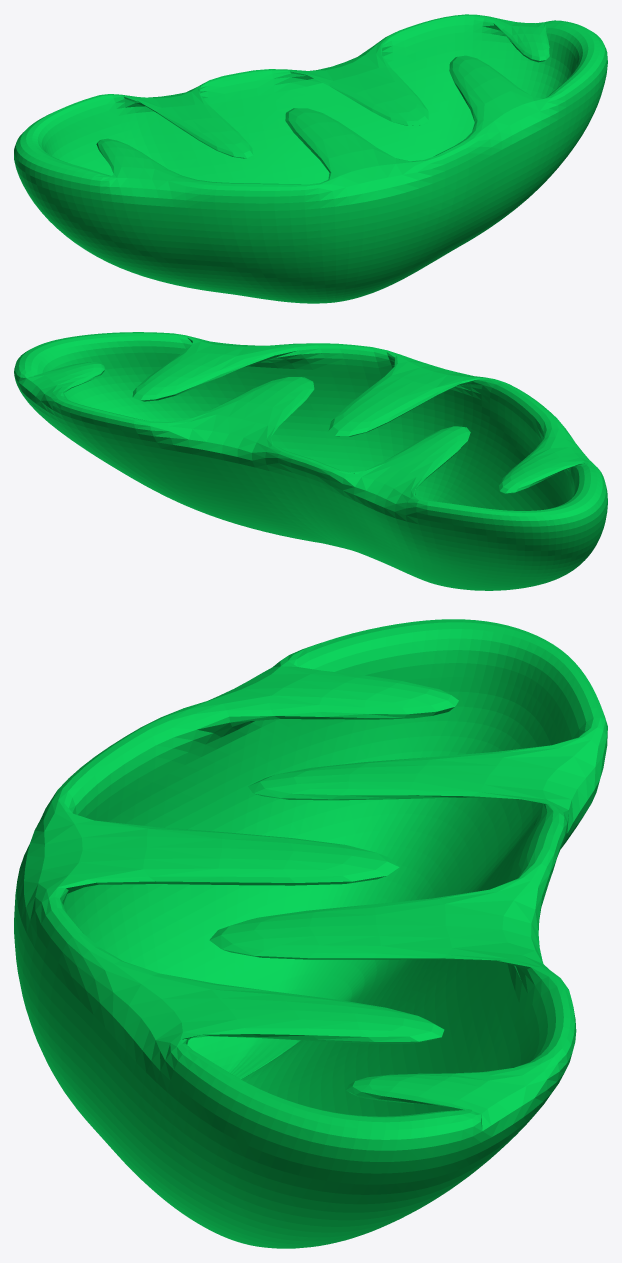
Rendered from powerhouse.dae.
3 renders of one model, top to bottom at view 1: azimuth 30°, elevation 25°; view 2: azimuth 150°, elevation 25°; view 3: azimuth 270°, elevation 25°, orthographic. The views are drawn at different scales.
Visible parts, largest first — view 1: Sphere_009; view 2: Sphere_009; view 3: Sphere_009.
Part boxes in pixels (x1,y1,x2,y2): Sphere_009: (14, 14, 607, 303); Sphere_009: (14, 332, 607, 590); Sphere_009: (14, 619, 607, 1248).
Bounding box in the file's own units: 1.07 × 0.5147 × 0.2869.
